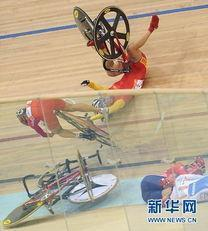Fall-Detected: (68, 10, 164, 120)
